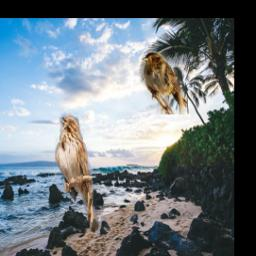Sparrow: (56, 113, 100, 235), (142, 52, 187, 115)
